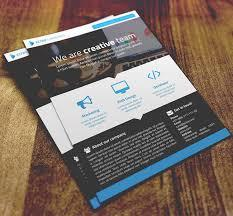Printing industry: (6, 5, 233, 216)
